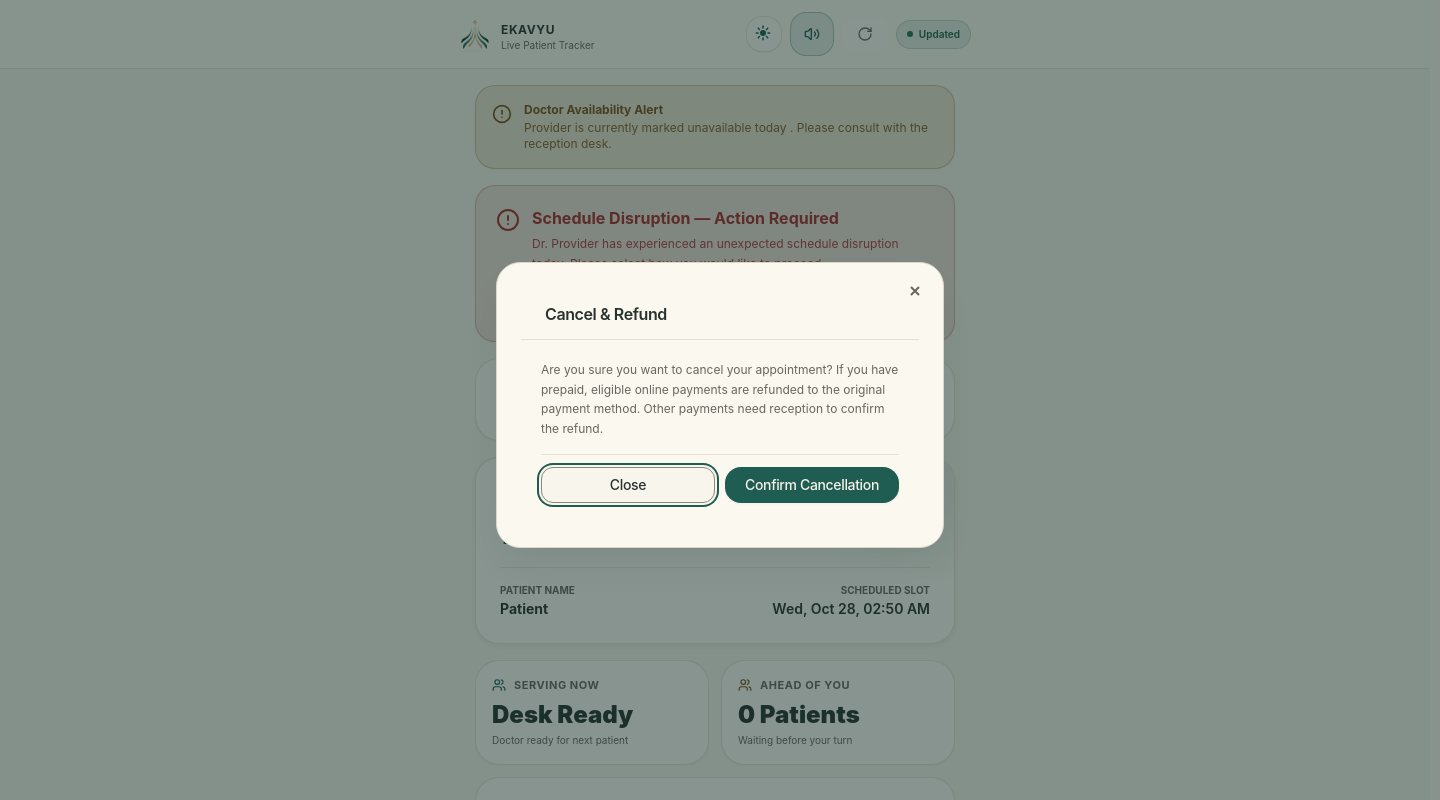
Scenario: reports the server's refund_pending result without promising an unprocessed refund
The image size is (1440, 800).
Click the button "Confirm Cancellation" at (812, 485), box [725,467,899,503]
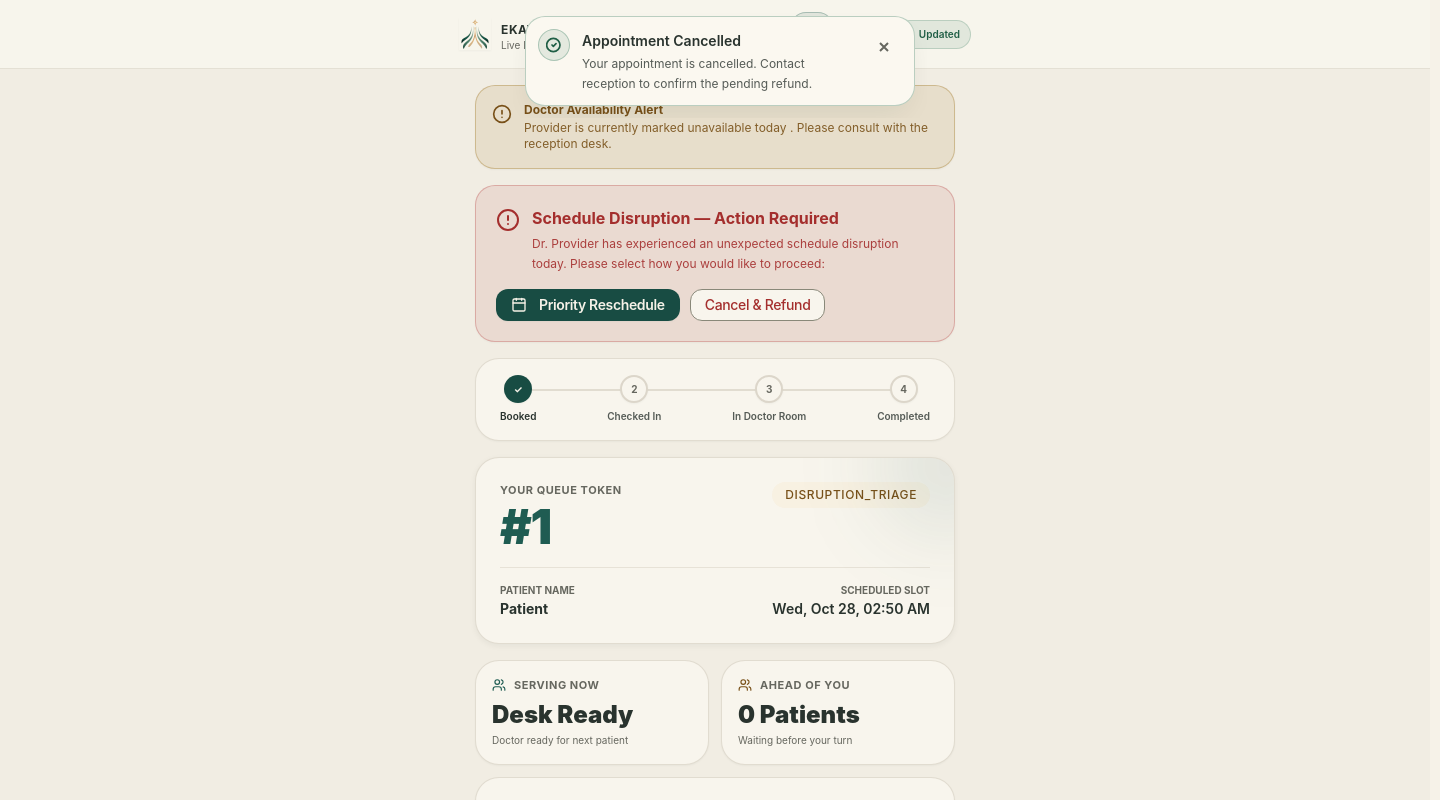
Result: the text "Your appointment is cancelled. Contact reception to confirm the pending refund." is shown at [582,54,850,93]
